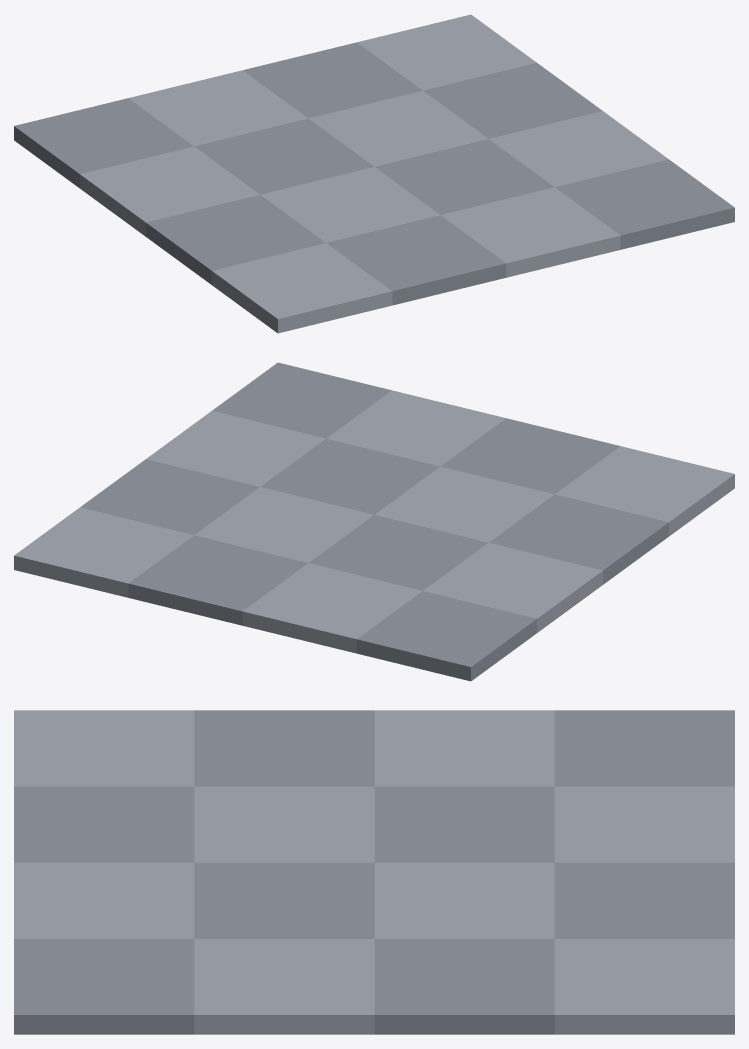
The model's file is floor.glb.
3 renders of one model, top to bottom at view 1: azimuth 30°, elevation 25°; view 2: azimuth 150°, elevation 25°; view 3: azimuth 270°, elevation 25°, orthographic. The views are drawn at different scales.
Parts seen in each view (by area): view 1: floor; view 2: floor; view 3: floor.
Part boxes in pixels (x1=…): floor: x1=14, y1=14, x2=734, y2=333; floor: x1=14, y1=362, x2=734, y2=681; floor: x1=14, y1=710, x2=734, y2=1034.
Size of the model in its own units: 1 by 0.03 by 1.
Materials: 1 (1 with a texture image).
